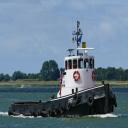tugboat: (7, 21, 119, 122)
